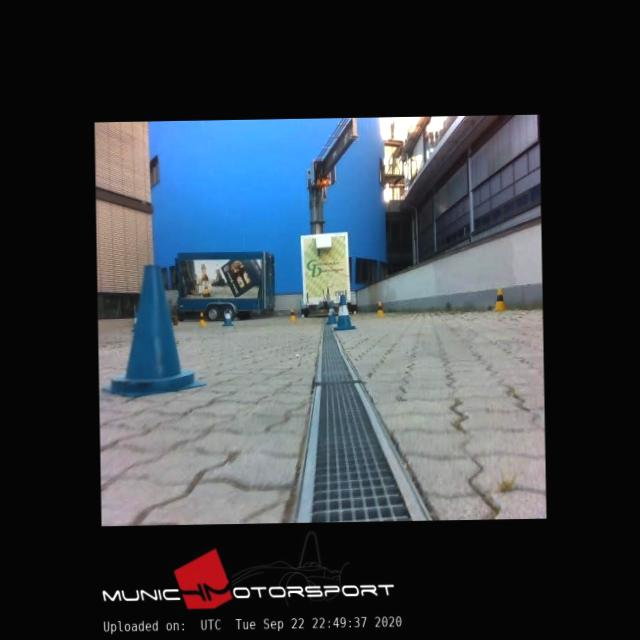blue_cone: (101, 264, 205, 395), (333, 295, 356, 329), (326, 300, 337, 324), (222, 309, 232, 325)
yellow_cone: (492, 288, 504, 311), (374, 302, 384, 318), (288, 307, 296, 321), (198, 312, 205, 326)
